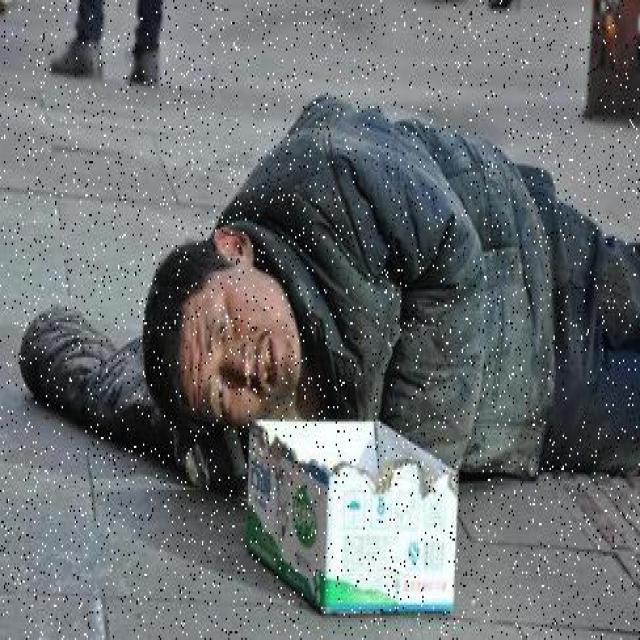fall: (162, 104, 638, 441)
